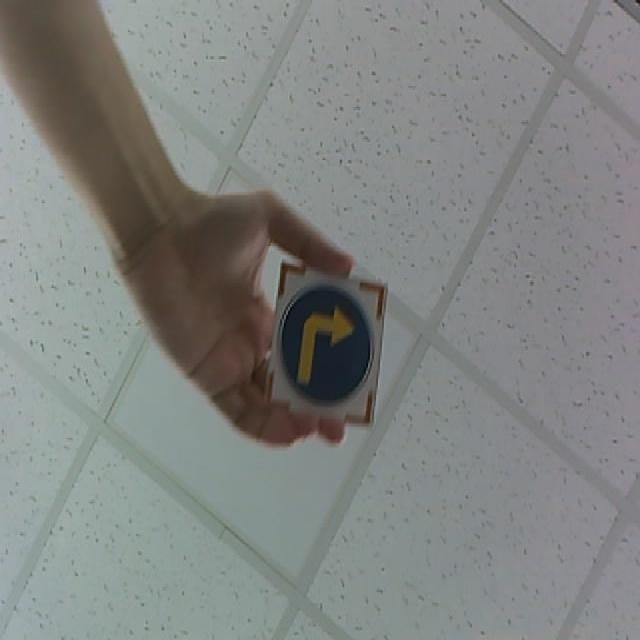right: (265, 259, 386, 427)
